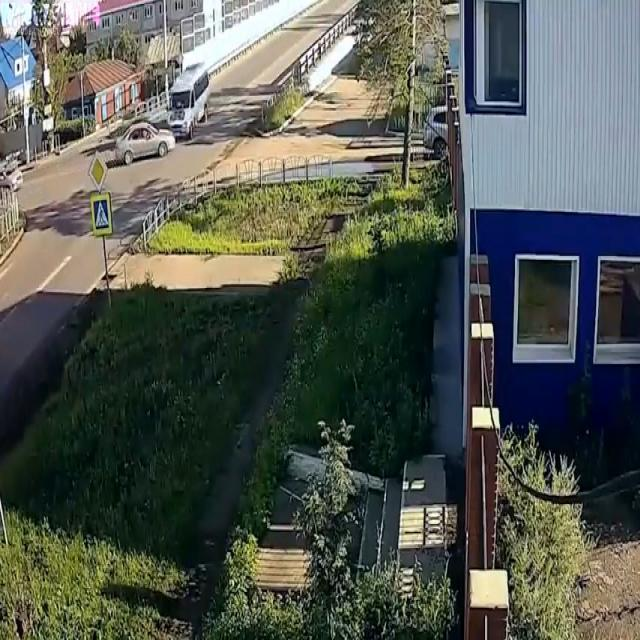accident: (109, 59, 216, 186)
